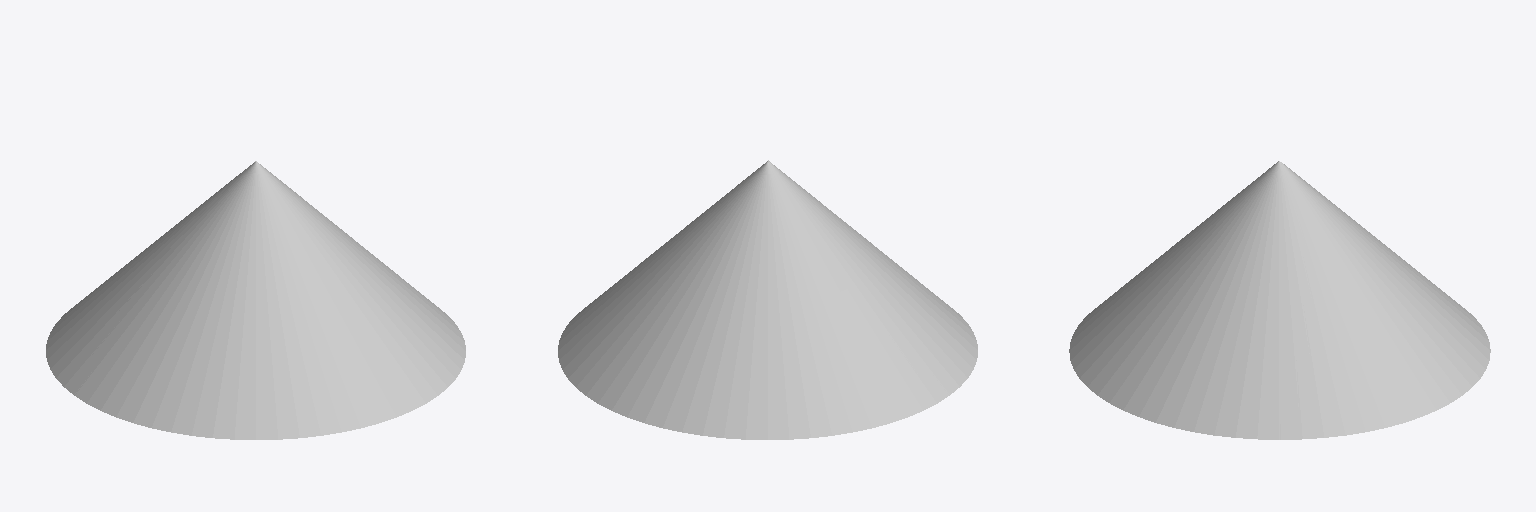
File: cone-short.obj
3 views of the same model, side by side, from view 1: azimuth 30°, elevation 25°; view 2: azimuth 150°, elevation 25°; view 3: azimuth 270°, elevation 25° (orthographic).
Parts seen in each view (by area): view 1: pCone2; view 2: pCone2; view 3: pCone2.
Boxes of the visible parts, x1,y1,x2,y2 form: pCone2: [46, 161, 465, 439]; pCone2: [558, 160, 977, 439]; pCone2: [1069, 161, 1490, 439].
Size of the model in its own units: 20.15 by 10.09 by 20.23.